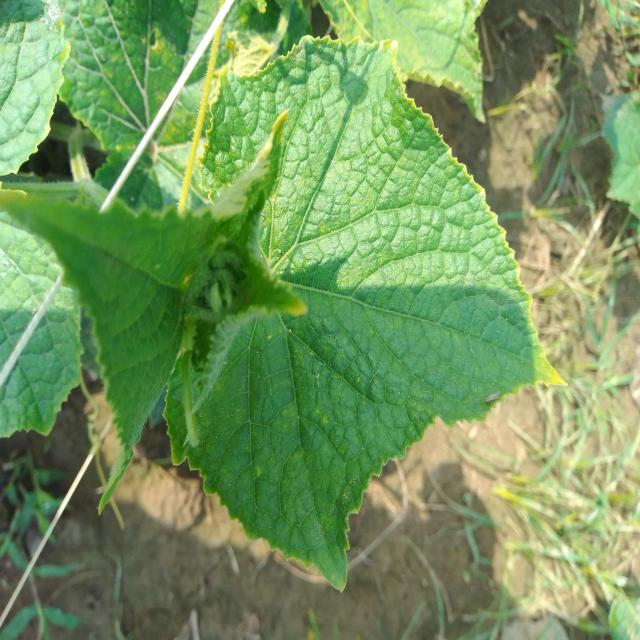cucumber_healthy: (166, 32, 568, 598), (3, 107, 312, 519), (2, 2, 74, 188), (595, 71, 640, 227)
